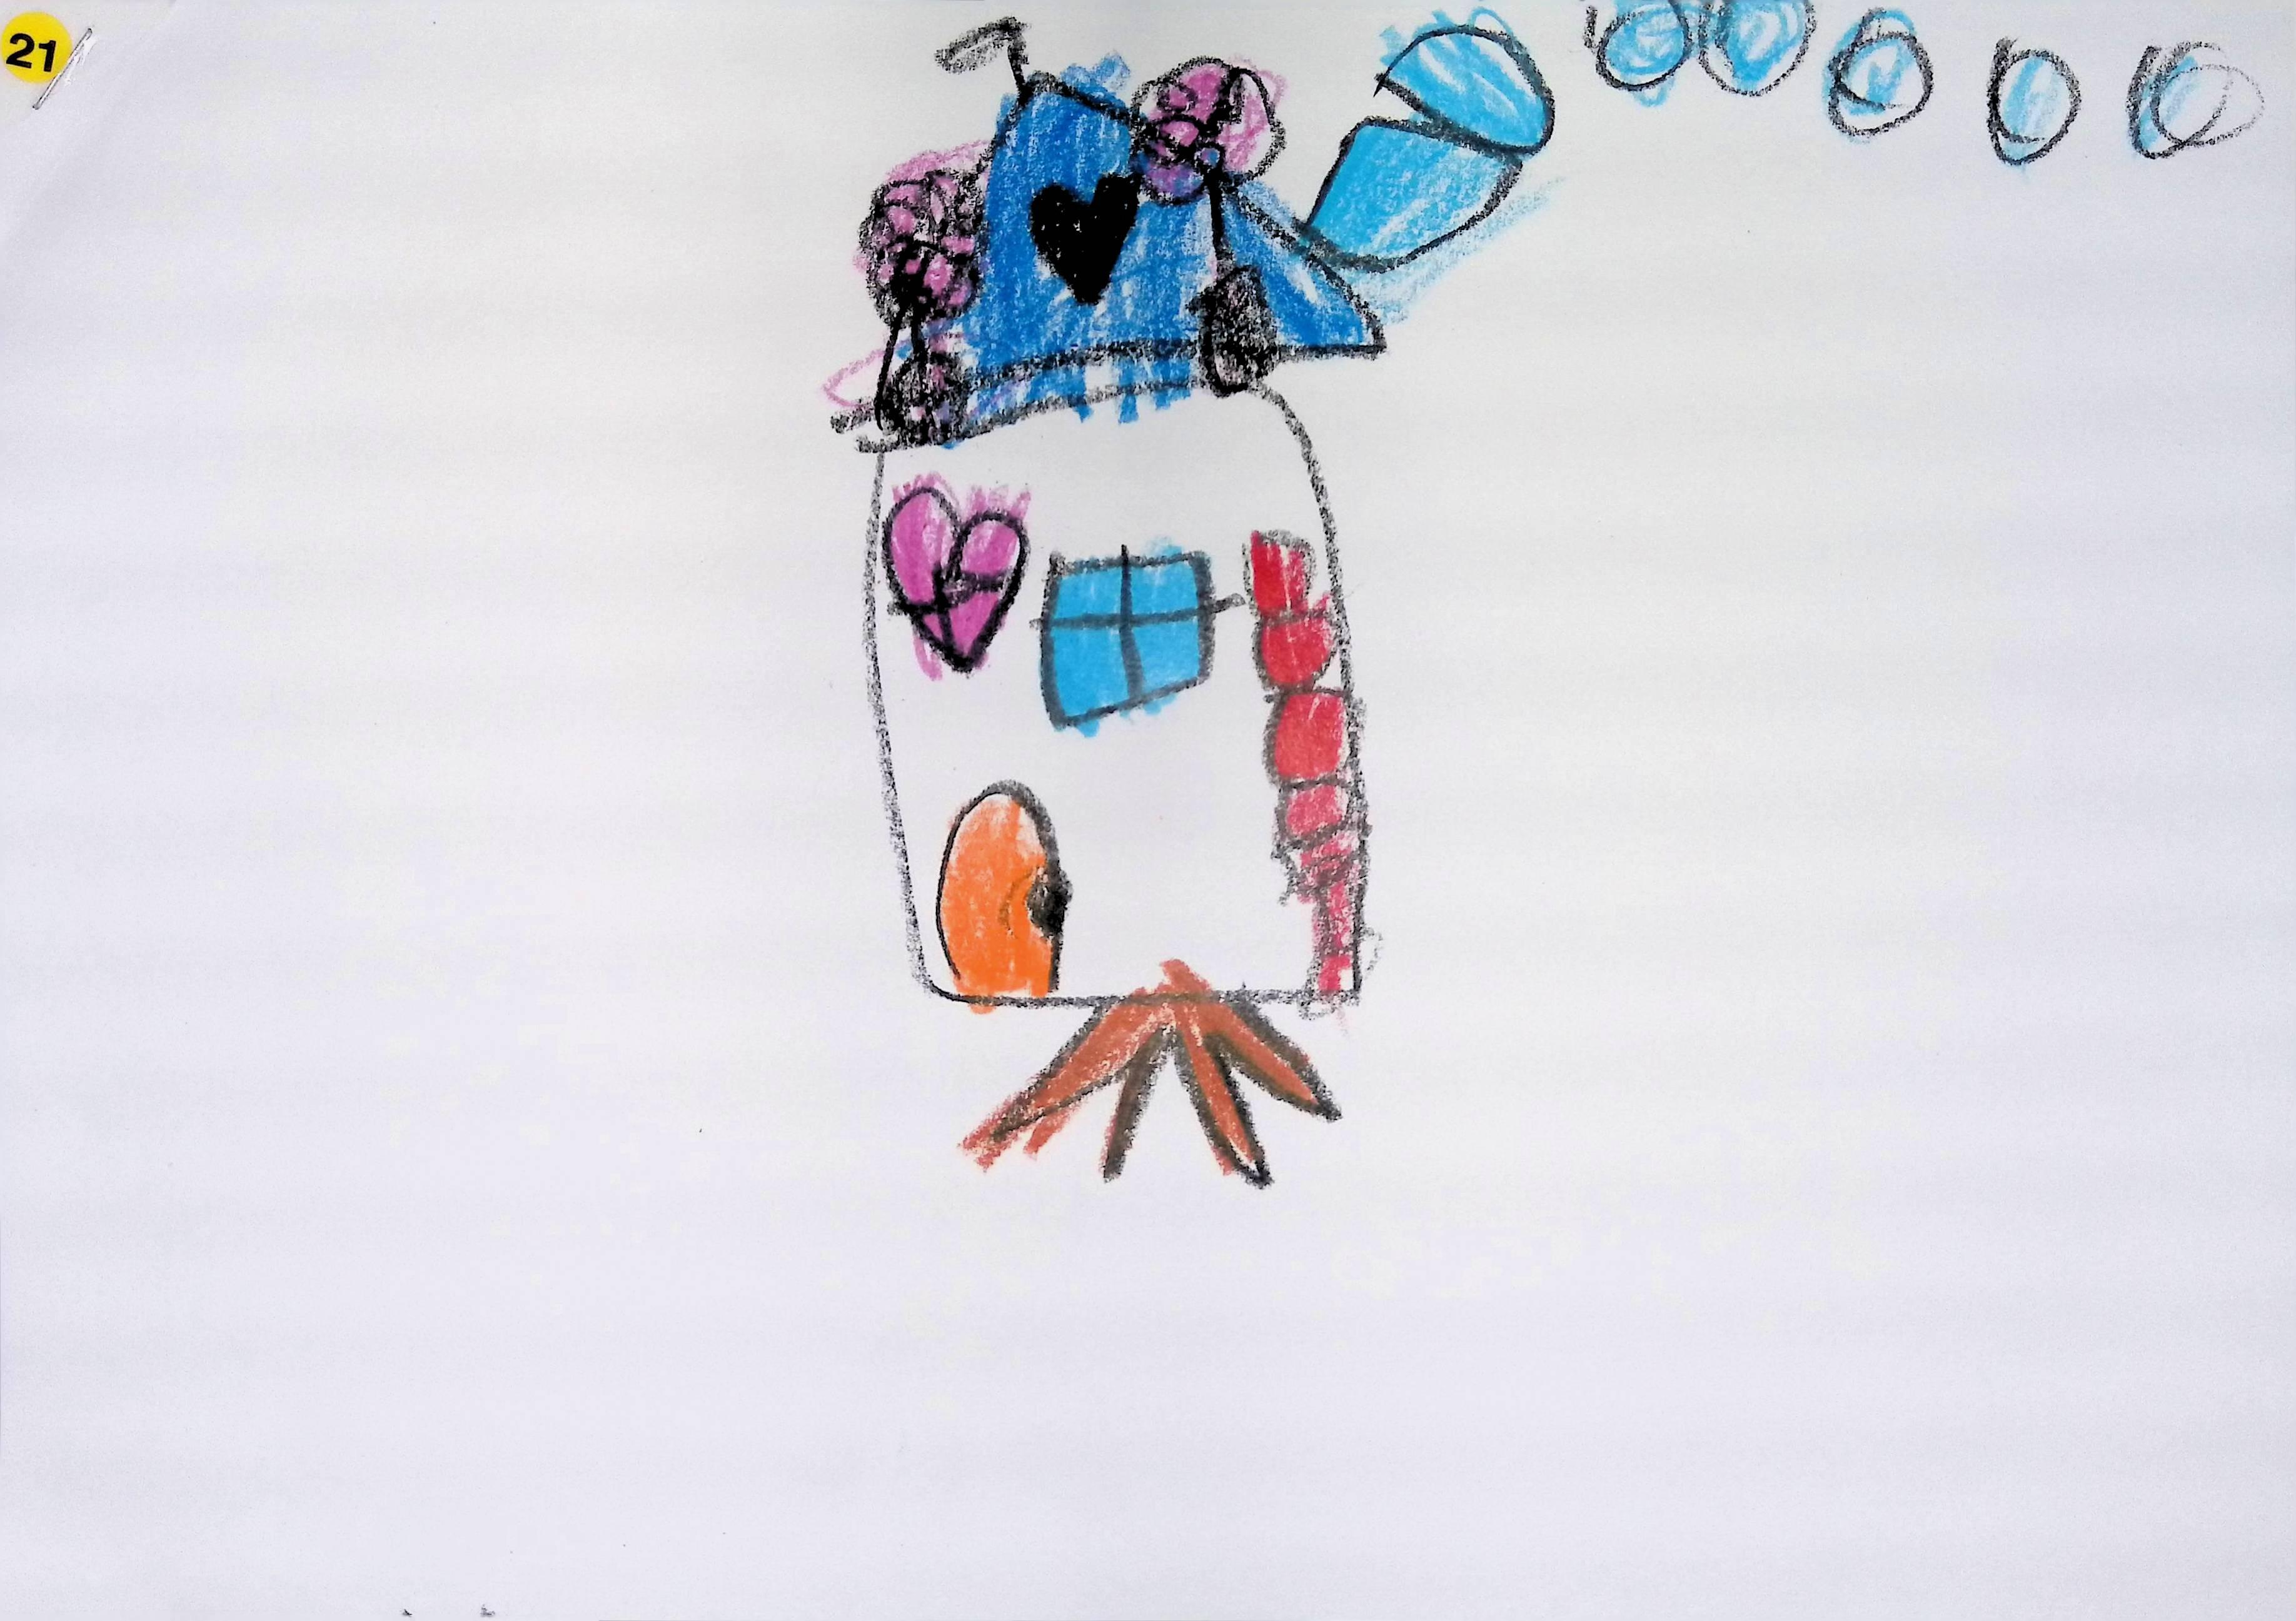chimney: (1296, 102, 1531, 274)
door: (937, 781, 1070, 996)
house: (837, 40, 1544, 1014)
roof: (861, 67, 1408, 442)
wall: (840, 372, 1386, 1014)
window: (1038, 544, 1223, 733)
